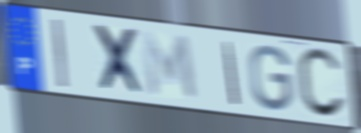C: (295, 46, 348, 122)
G: (248, 43, 295, 114)
I: (50, 16, 70, 91), (222, 39, 241, 108)
M: (140, 29, 200, 104)
X: (90, 22, 149, 99)
